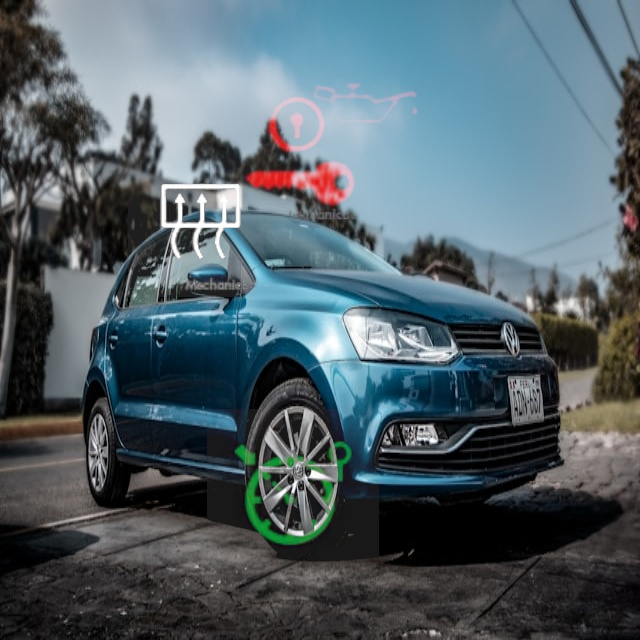symbol: (207, 409, 379, 581), (225, 75, 377, 227), (128, 150, 275, 297), (292, 32, 436, 176)
